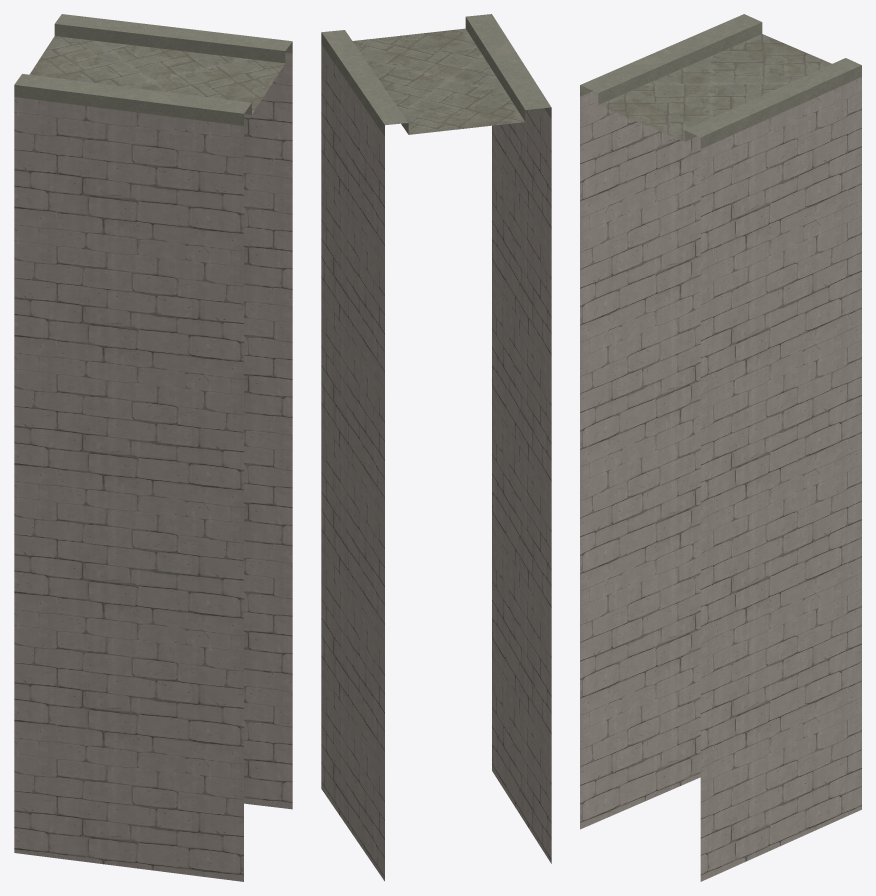
The model's file is AD_Ground_J_01.fbx.
3 views of the same model, side by side, from view 1: azimuth 30°, elevation 25°; view 2: azimuth 150°, elevation 25°; view 3: azimuth 270°, elevation 25° (orthographic). The views are drawn at different scales.
Parts seen in each view (by area): view 1: AD_Ground_J_01; view 2: AD_Ground_J_01; view 3: AD_Ground_J_01.
Boxes of the visible parts, <box> form: AD_Ground_J_01: <box>14,14,292,881</box>; AD_Ground_J_01: <box>321,14,551,881</box>; AD_Ground_J_01: <box>580,14,861,881</box>.
Size of the model in its own units: 2089 by 6008 by 2054.
3 materials, 3 textured.
